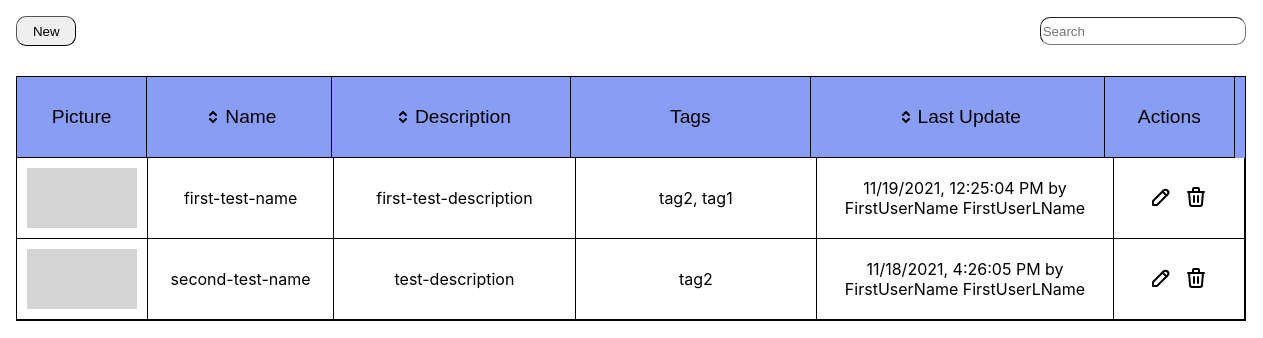
Test: sort table › models should be sorted by name in descending
The image size is (1263, 338).
Double-click the button "Name" at (239, 117), box x1=157 y1=87 x2=321 y2=147
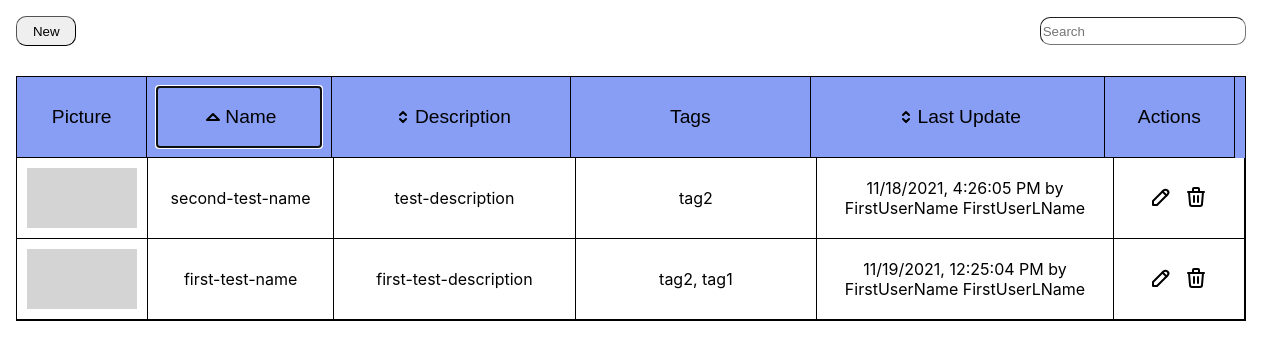
Expected: the text "second-test-name" is shown, x1=148 y1=158 x2=334 y2=239
Expected: the text "first-test-name" is shown, x1=148 y1=239 x2=334 y2=320
